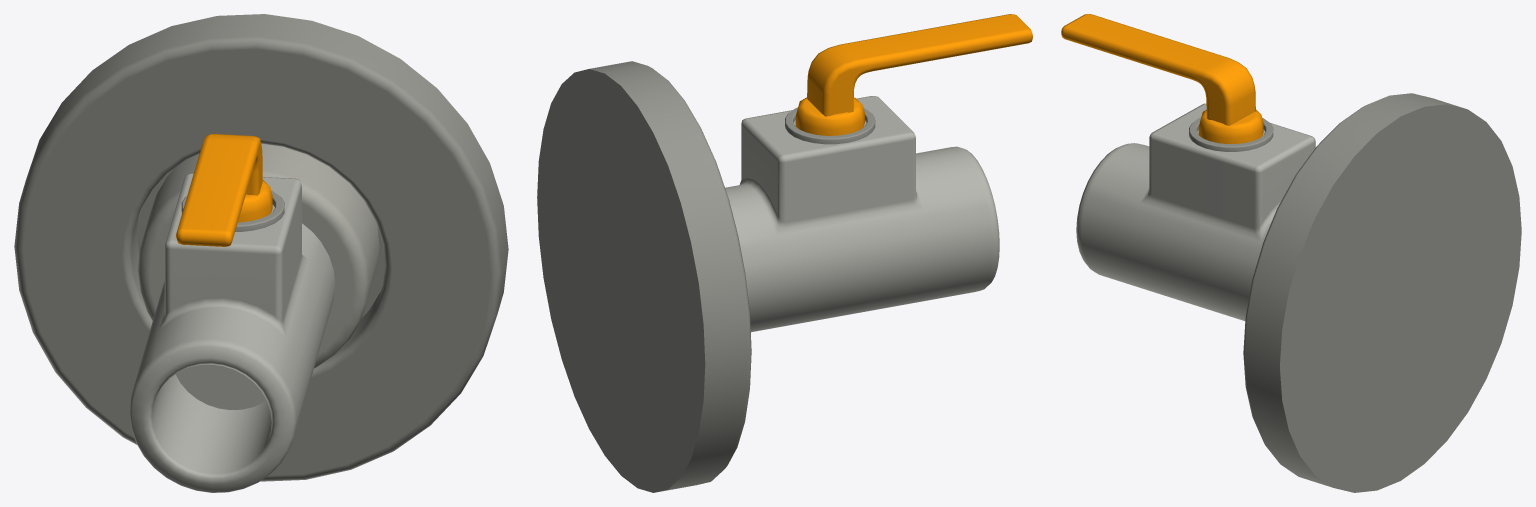
The model's file is watertap.gltf.
3 renders of one model, left to right at view 1: azimuth 30°, elevation 25°; view 2: azimuth 150°, elevation 25°; view 3: azimuth 270°, elevation 25°, orthographic. The views are drawn at different scales.
Parts seen in each view (by area): view 1: 阀门33; view 2: 阀门33; view 3: 阀门33.
Boxes of the visible parts, x1,y1,x2,y2 form: 阀门33: (14, 14, 508, 492); 阀门33: (537, 14, 1032, 492); 阀门33: (1061, 14, 1521, 492).
Size of the model in its own units: 0.2671 by 0.2511 by 0.2875.
